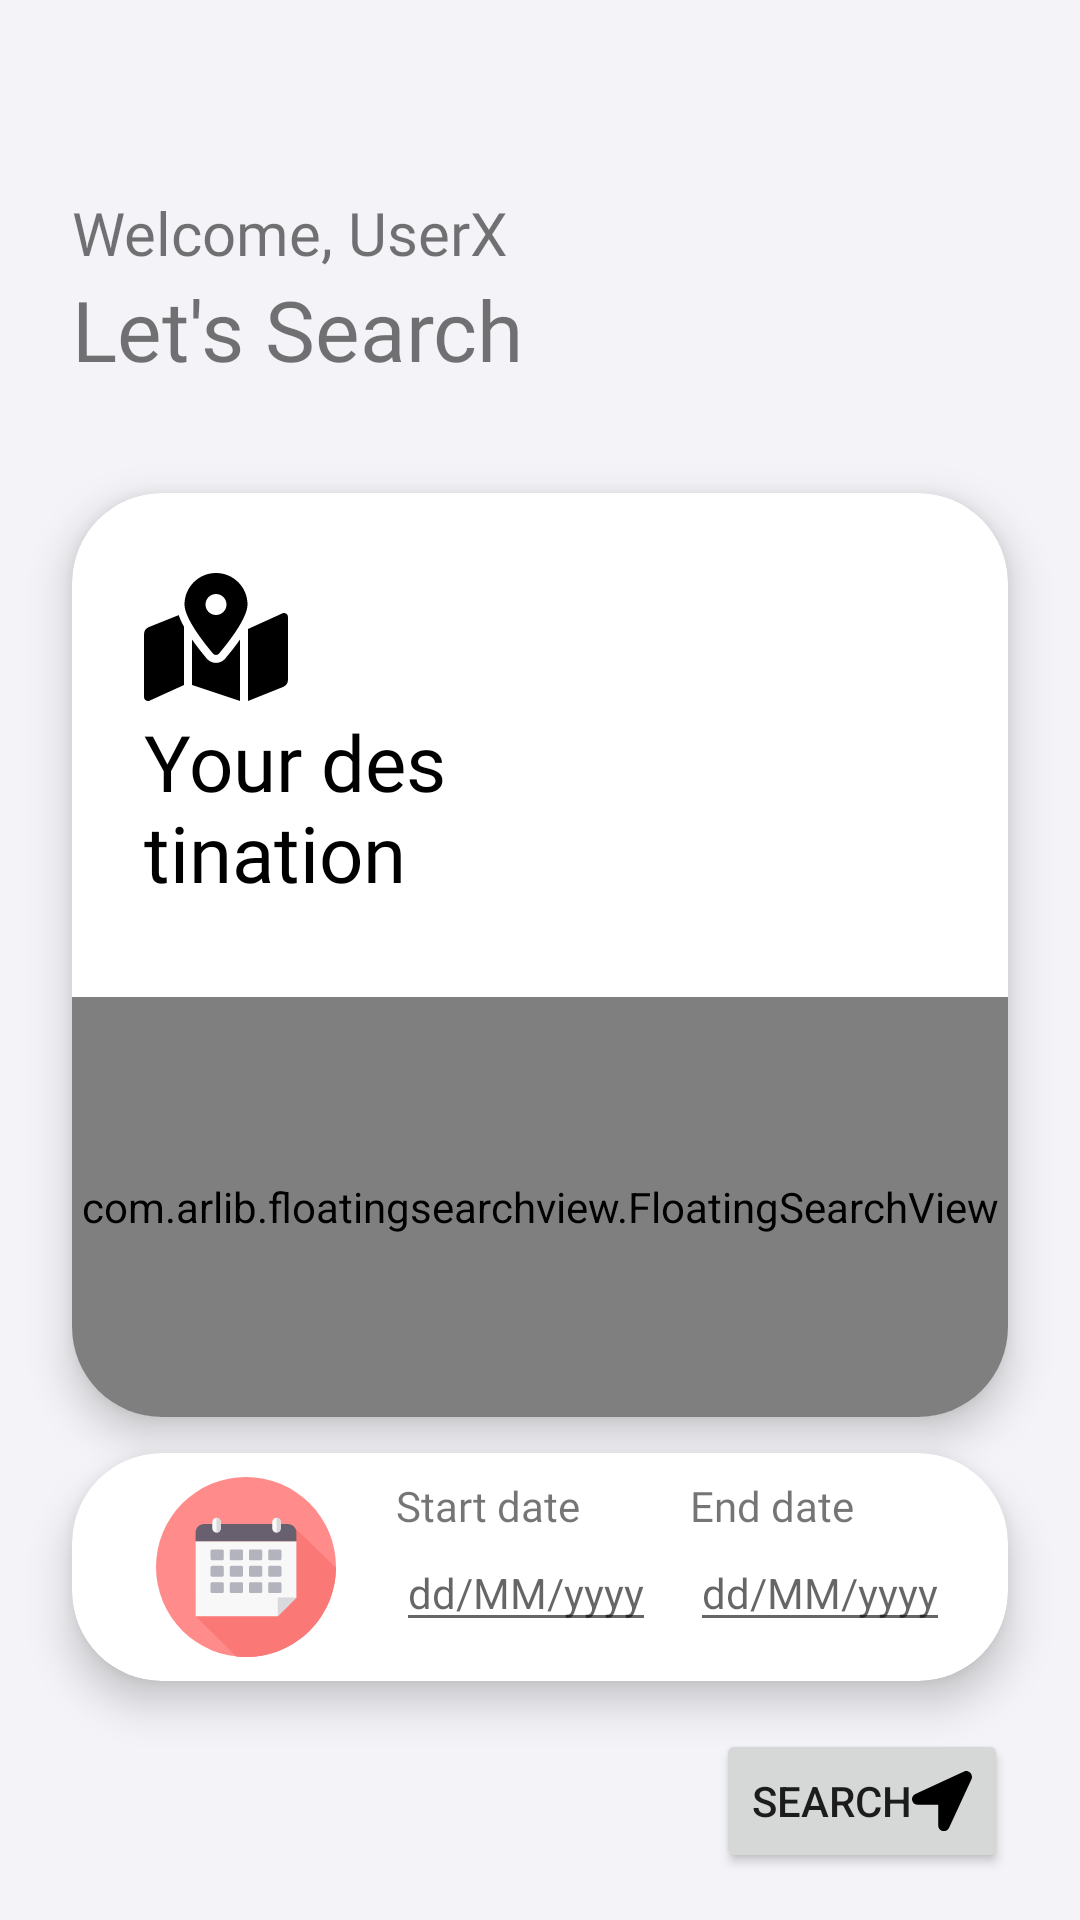

Icons on this 1080×1920 Android screen, each with its box as (x1, y1, x2, y2):
calendar: (156, 1477, 336, 1657)
map marked: (144, 573, 288, 701)
